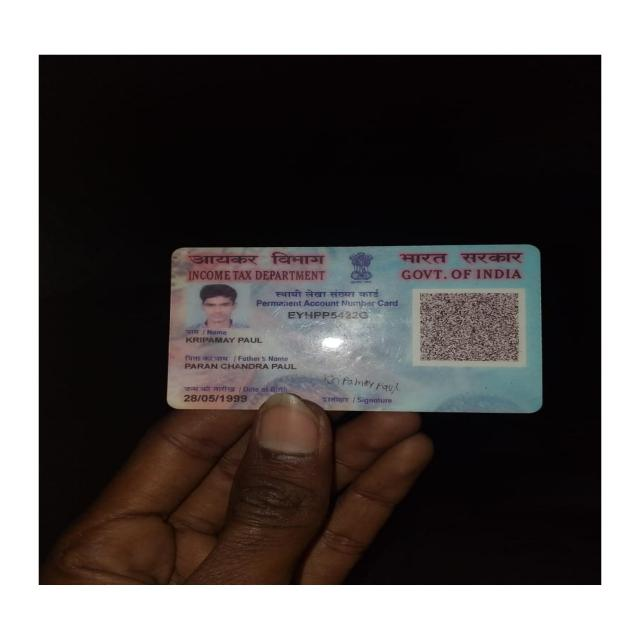pan_card: (172, 245, 542, 409)
